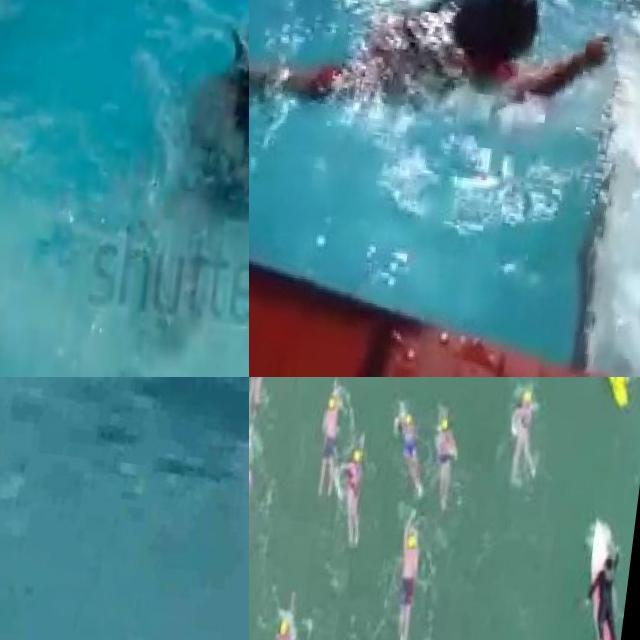drowning: (177, 0, 249, 300)
swimming: (249, 0, 636, 199), (336, 433, 378, 558), (310, 380, 352, 504), (385, 390, 432, 500), (426, 390, 468, 513), (503, 377, 546, 495), (382, 523, 425, 640), (261, 598, 303, 640), (249, 443, 263, 567)
